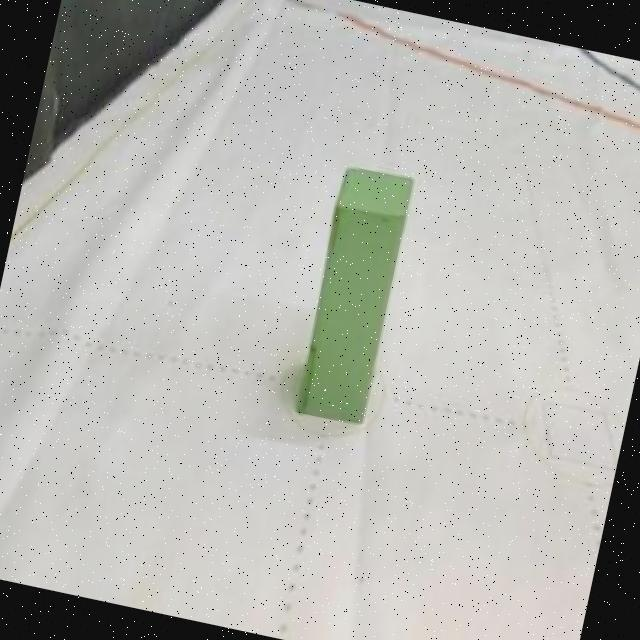greenbox: (290, 157, 420, 431)
